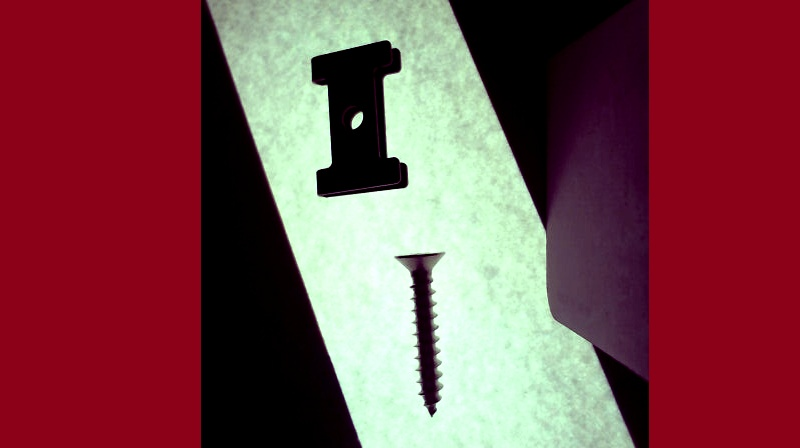O002: (312, 38, 408, 205)
S001: (392, 249, 445, 419)
